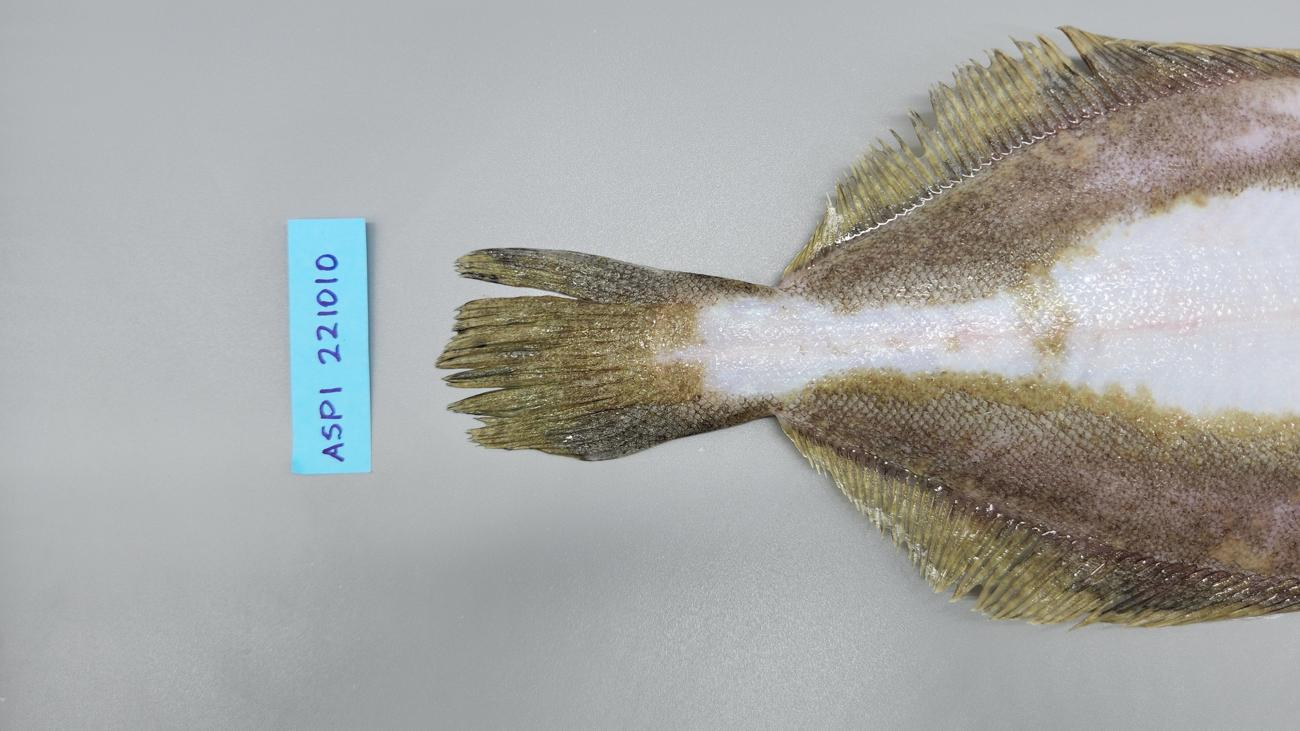SPDYH: (776, 75, 1299, 290), (771, 402, 1299, 585)
SPFCH: (526, 255, 716, 459)
